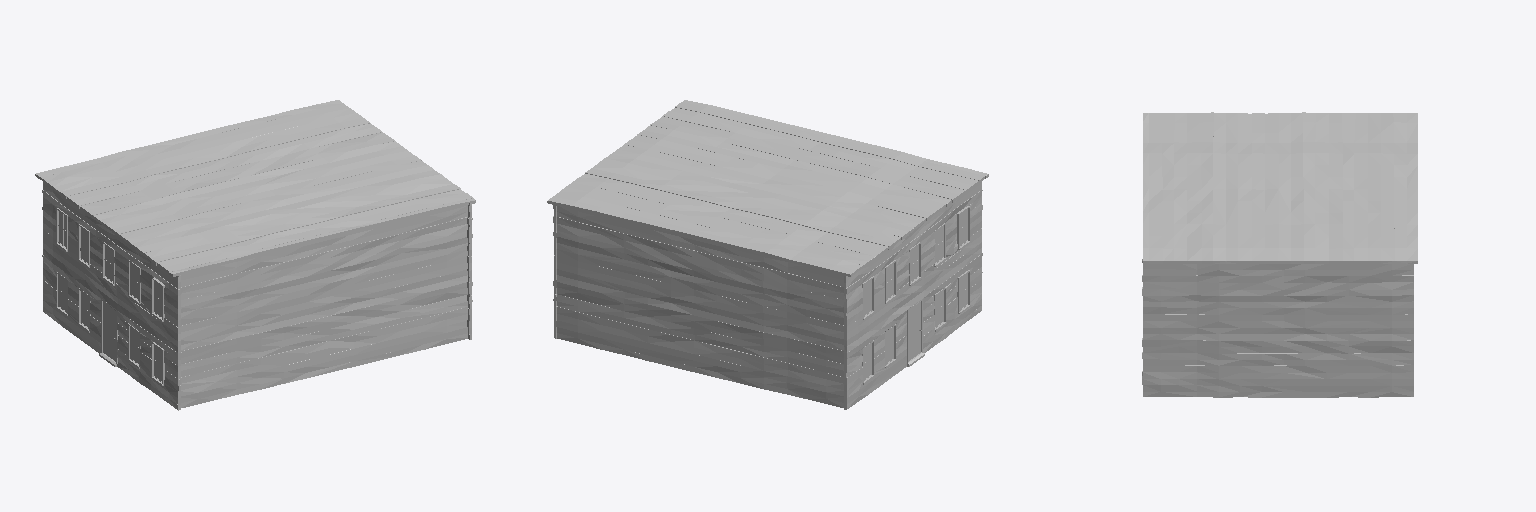
The model's file is Bank_LOD1.obj.
3 views of the same model, side by side, from view 1: azimuth 30°, elevation 25°; view 2: azimuth 150°, elevation 25°; view 3: azimuth 270°, elevation 25° (orthographic).
Visible parts, largest first — view 1: WildWest_Bank_Roof, WildWest_Bank_Wall04, WildWest_Bank_Wall01, WildWest_Bank_Glass, WildWest_Bank_Door01, WildWest_Bank_Wall03; view 2: WildWest_Bank_Roof, WildWest_Bank_Wall02, WildWest_Bank_Wall01, WildWest_Bank_Glass, WildWest_Bank_Door01; view 3: WildWest_Bank_Roof, WildWest_Bank_Wall03.
Part boxes in pixels (bbox=[...]): WildWest_Bank_Roof: bbox=[35, 100, 475, 276]; WildWest_Bank_Wall04: bbox=[181, 206, 467, 407]; WildWest_Bank_Wall01: bbox=[42, 182, 181, 410]; WildWest_Bank_Glass: bbox=[59, 211, 161, 380]; WildWest_Bank_Door01: bbox=[103, 302, 115, 361]; WildWest_Bank_Wall03: bbox=[467, 203, 472, 339]; WildWest_Bank_Roof: bbox=[547, 100, 988, 276]; WildWest_Bank_Wall02: bbox=[557, 206, 843, 407]; WildWest_Bank_Wall01: bbox=[843, 182, 982, 409]; WildWest_Bank_Glass: bbox=[864, 209, 967, 379]; WildWest_Bank_Door01: bbox=[908, 302, 921, 361]; WildWest_Bank_Roof: bbox=[1143, 112, 1417, 263]; WildWest_Bank_Wall03: bbox=[1142, 259, 1413, 397].
Size of the model in its own units: 14.31 by 6.34 by 11.22.